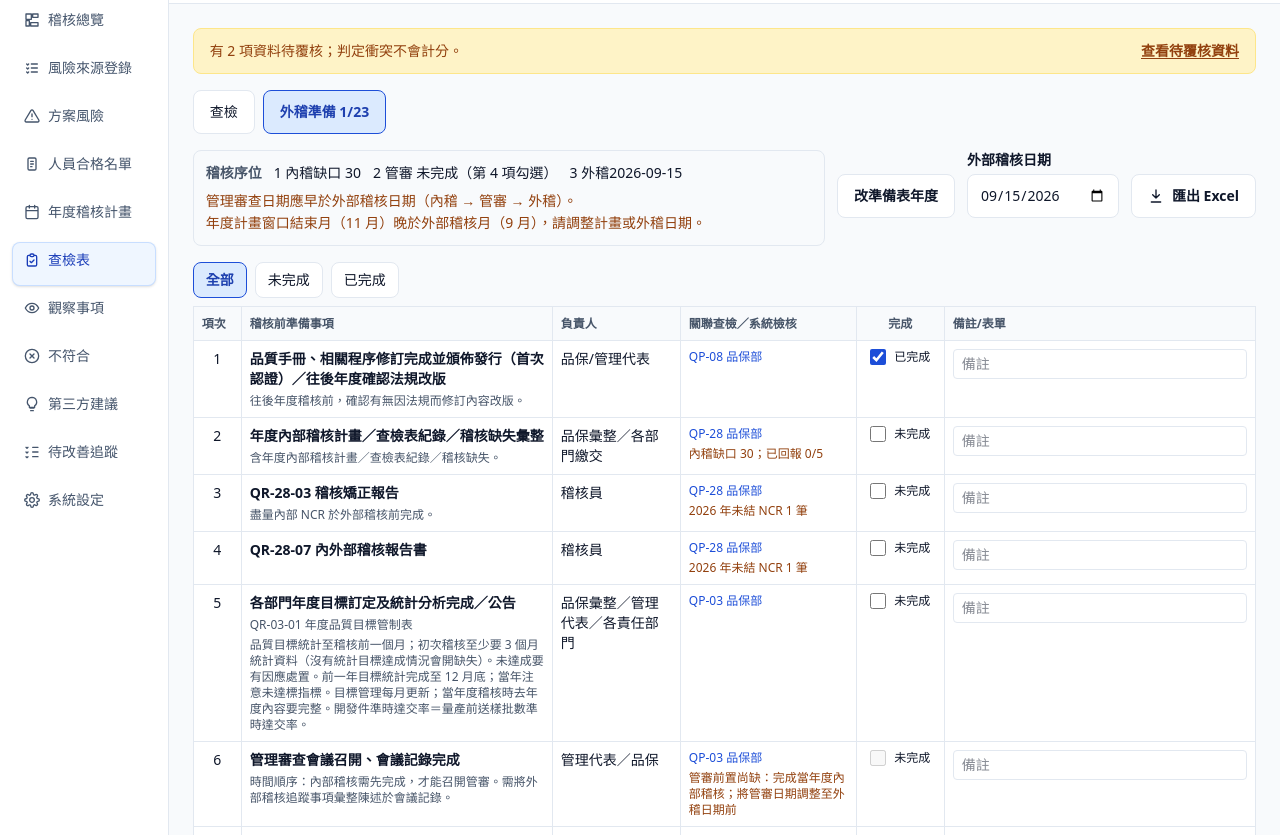
Test: App tab smoke › keeps the checklist sidebar item current on the prep view and returns to the checklist
Click the button "查檢". click: (224, 112)
box: [193,90,255,134]
(page scrolled)
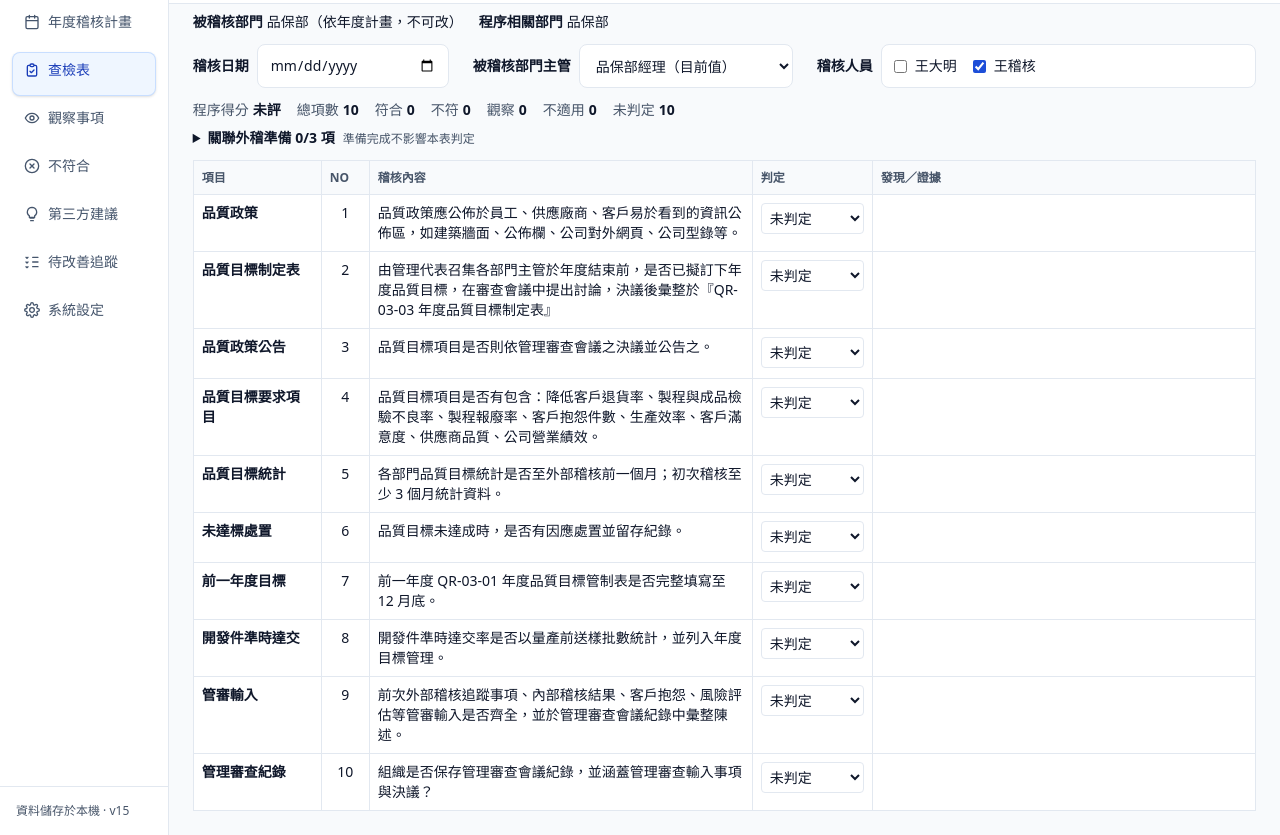
Expected: the element named "查檢表項目清單" is shown
